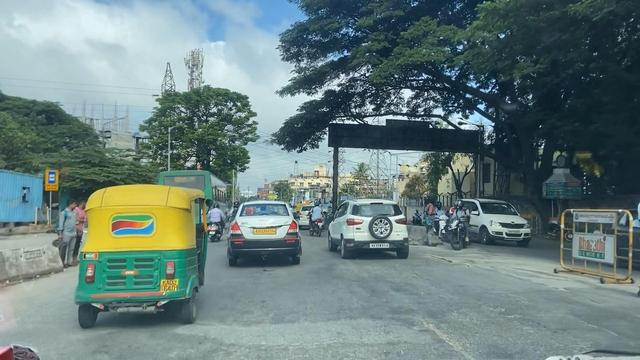LMV: (79, 183, 209, 323), (328, 201, 408, 258), (227, 201, 301, 262)
RoadDamages: (393, 303, 496, 360), (425, 244, 473, 270)
UnsurfacedRoad: (175, 321, 433, 354)
